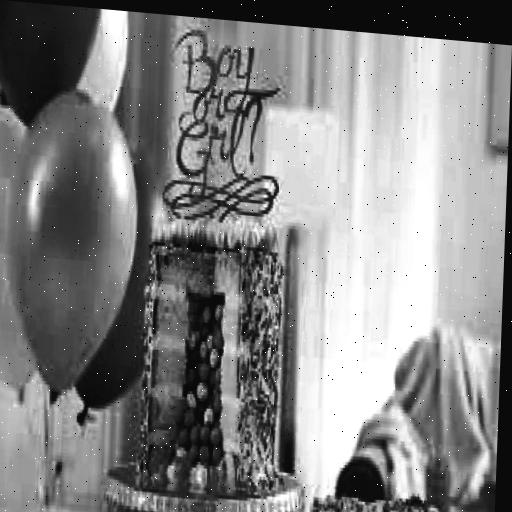balloon: (0, 83, 142, 404)
